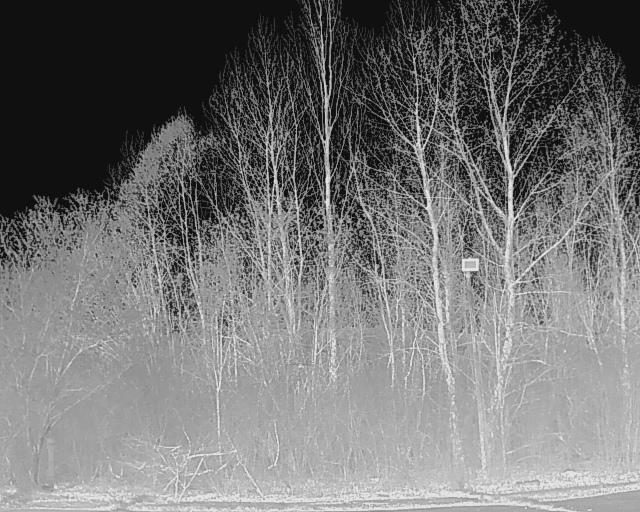drone: (274, 354, 317, 378)
